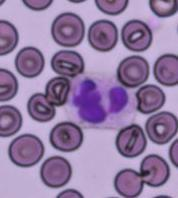N: (64, 72, 136, 129)
